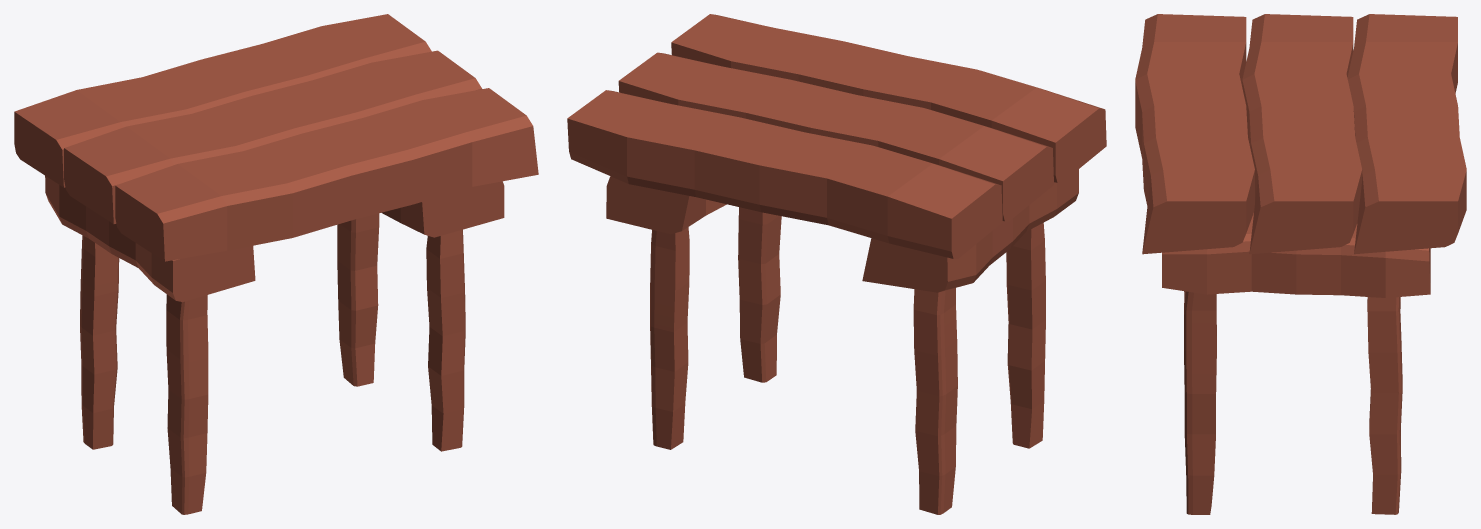
The model's file is stool.glb.
3 renders of one model, left to right at view 1: azimuth 30°, elevation 25°; view 2: azimuth 150°, elevation 25°; view 3: azimuth 270°, elevation 25°, orthographic. The views are drawn at different scales.
Parts seen in each view (by area): view 1: stool; view 2: stool; view 3: stool.
Boxes of the visible parts, <box> form: stool: <box>14,14,538,514</box>; stool: <box>567,14,1106,514</box>; stool: <box>1135,14,1466,514</box>.
Size of the model in its own units: 0.6019 by 0.5005 by 0.4408.
Materials: 1 (1 with a texture image).
